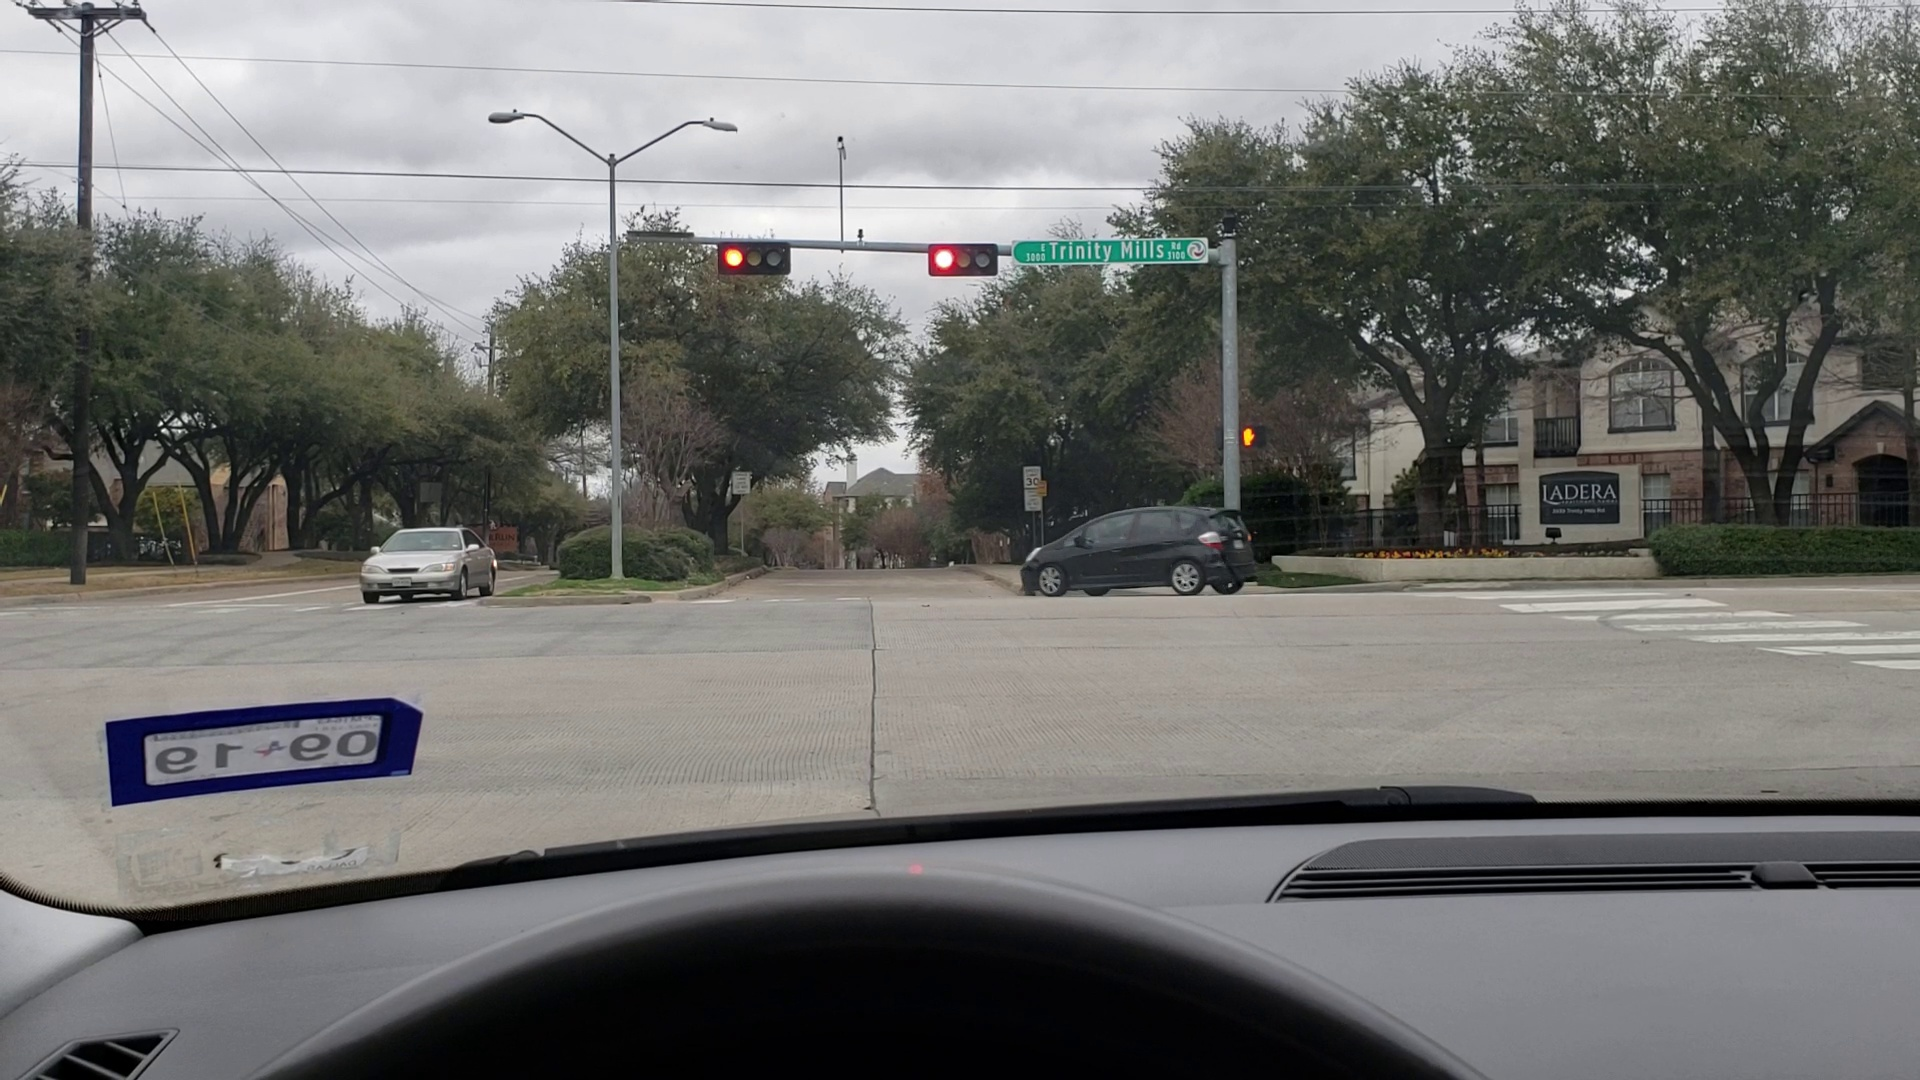car: (1015, 506, 1258, 600), (363, 521, 504, 607)
traffic light: (717, 235, 793, 273), (927, 243, 1004, 280)
